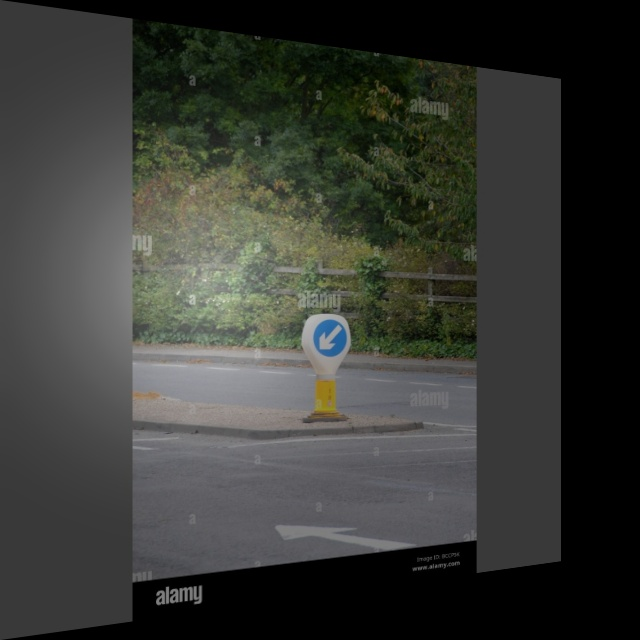Compulsory_Keep_Left: (306, 313, 355, 368)
